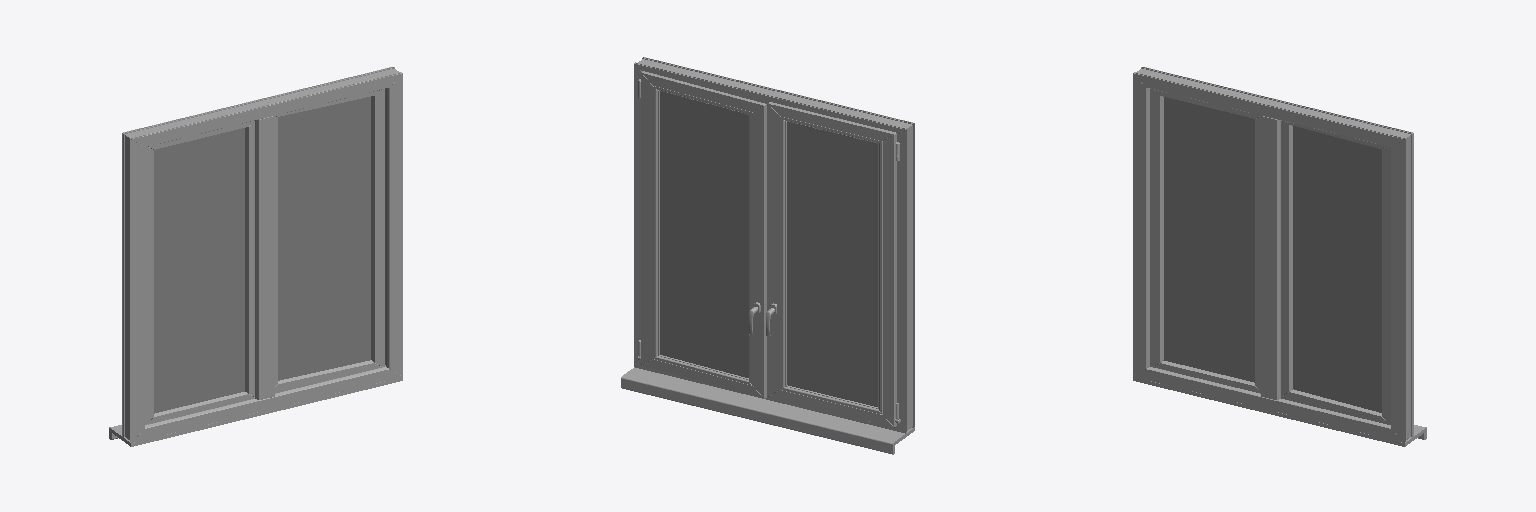
3 views of the same model, side by side, from view 1: azimuth 30°, elevation 25°; view 2: azimuth 150°, elevation 25°; view 3: azimuth 330°, elevation 25° (orthographic).
Parts seen in each view (by area): view 1: uPVC_Window_Panel1_L2, uPVC_Window_Panel2_L2, uPVC_Window_Frame_L2, uPVC_Window_In_Sill_L2; view 2: uPVC_Window_Panel2_L2, uPVC_Window_Panel1_L2, uPVC_Window_Frame_L2, uPVC_Window_In_Sill_L2; view 3: uPVC_Window_Panel2_L2, uPVC_Window_Panel1_L2, uPVC_Window_Frame_L2, uPVC_Window_In_Sill_L2.
Boxes of the visible parts, <box> form: uPVC_Window_Panel1_L2: <box>275,89,384,393</box>; uPVC_Window_Panel2_L2: <box>145,121,254,424</box>; uPVC_Window_Frame_L2: <box>122,67,402,442</box>; uPVC_Window_In_Sill_L2: <box>109,377,402,446</box>; uPVC_Window_Panel2_L2: <box>766,102,898,427</box>; uPVC_Window_Panel1_L2: <box>638,71,766,398</box>; uPVC_Window_Frame_L2: <box>634,57,914,433</box>; uPVC_Window_In_Sill_L2: <box>621,367,914,454</box>; uPVC_Window_Panel2_L2: <box>1150,89,1260,393</box>; uPVC_Window_Panel1_L2: <box>1281,121,1390,424</box>; uPVC_Window_Frame_L2: <box>1133,67,1413,442</box>; uPVC_Window_In_Sill_L2: <box>1133,377,1426,446</box>.
Bounding box in the file's own units: 1.18 × 1.32 × 0.1692.